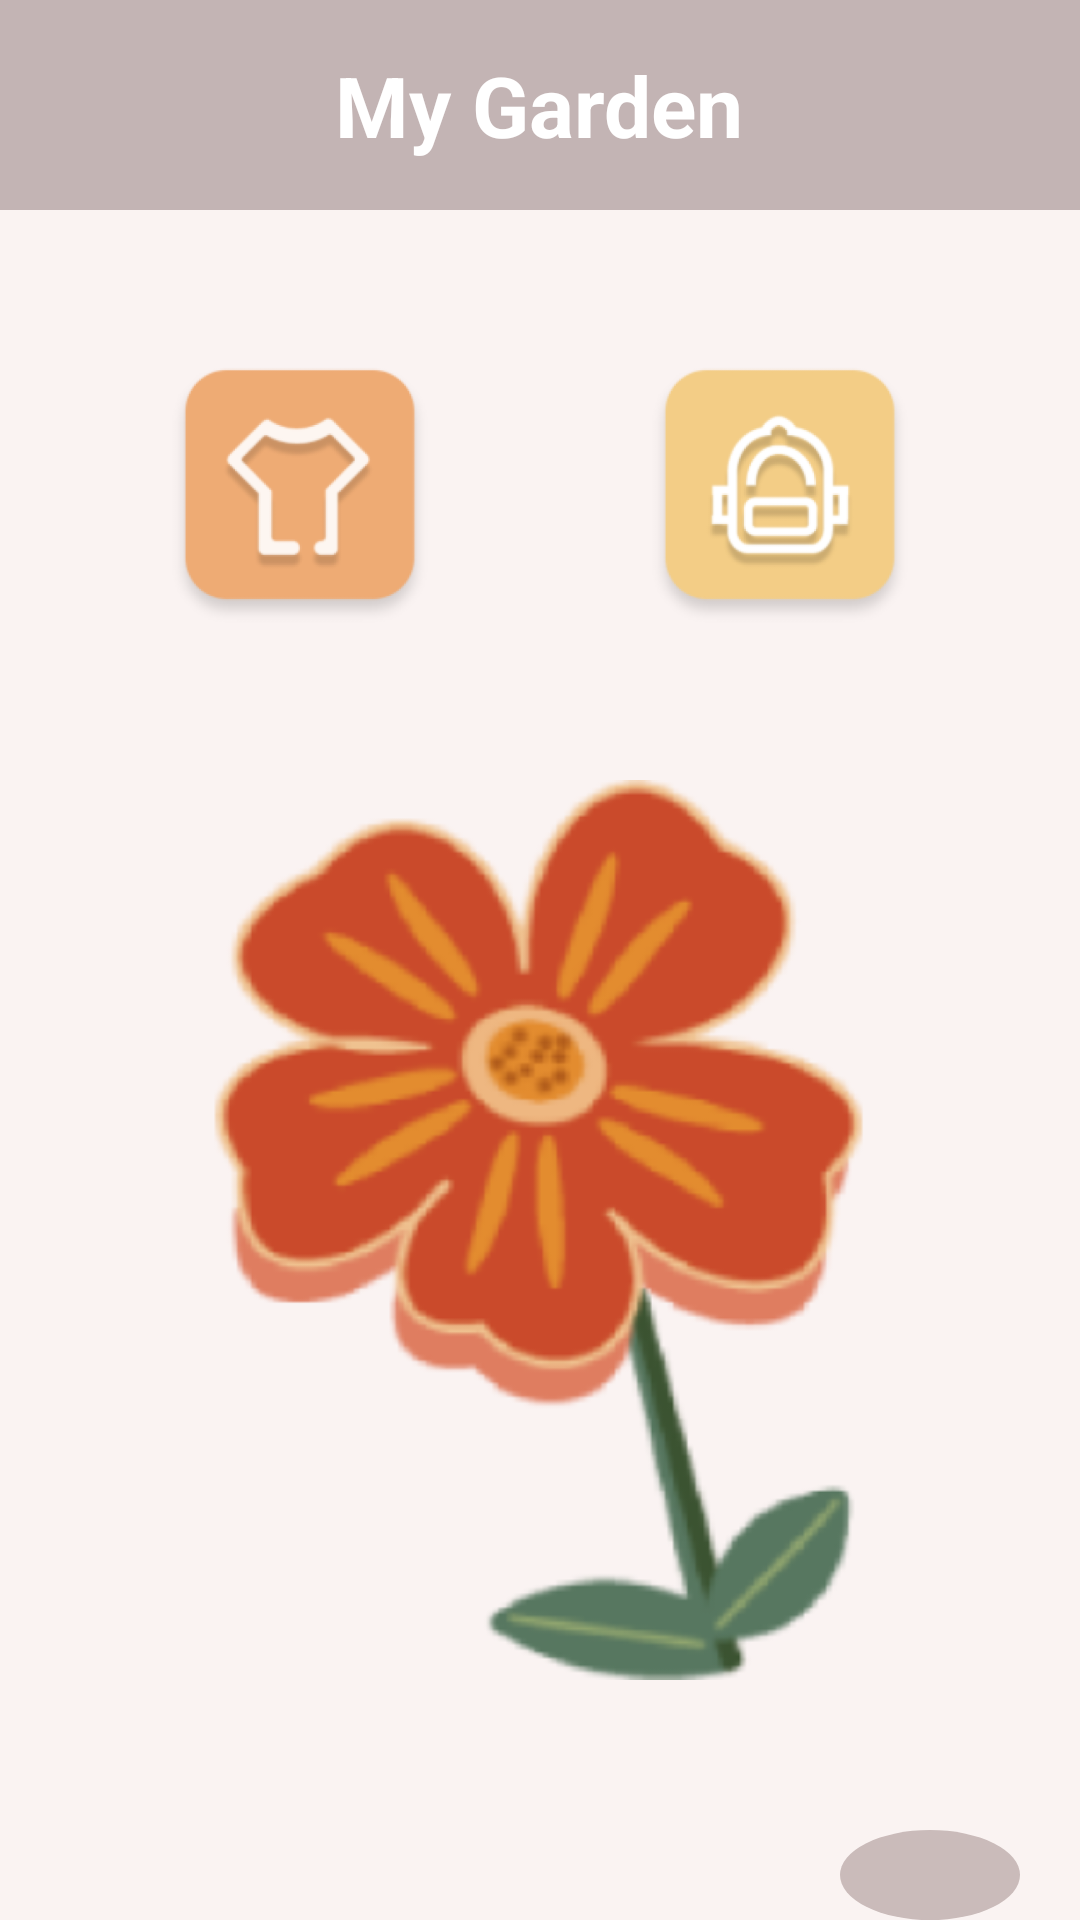

Named icons in this screenshot (1080 x 1920) and their centers, point (x, y):
bag: point (779, 488)
